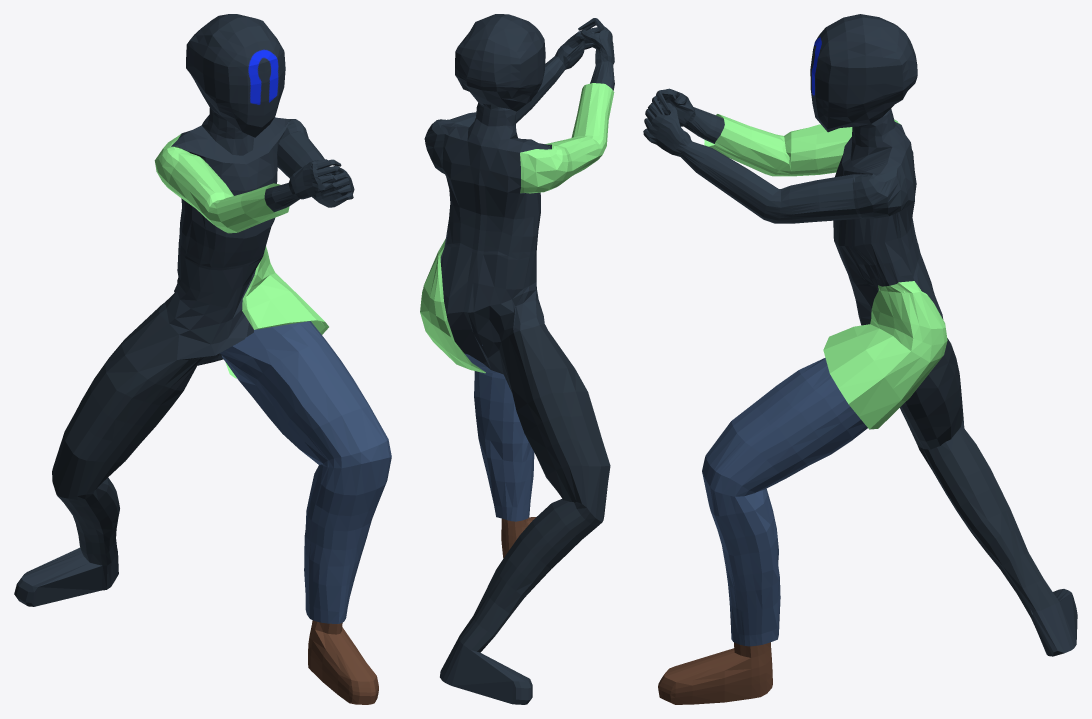
File: Mar_Attack_000019.obj
3 views of the same model, side by side, from view 1: azimuth 30°, elevation 25°; view 2: azimuth 150°, elevation 25°; view 3: azimuth 270°, elevation 25° (orthographic). The views are drawn at different scales.
Parts seen in each view (by area): view 1: Cube.000_Cube.001; view 2: Cube.000_Cube.001; view 3: Cube.000_Cube.001.
Boxes of the visible parts, box(x1,y1,x2,y2) form: Cube.000_Cube.001: box(14, 14, 391, 704); Cube.000_Cube.001: box(420, 14, 614, 704); Cube.000_Cube.001: box(643, 14, 1077, 704).
Size of the model in its own units: 1.32 by 3.46 by 2.06.
